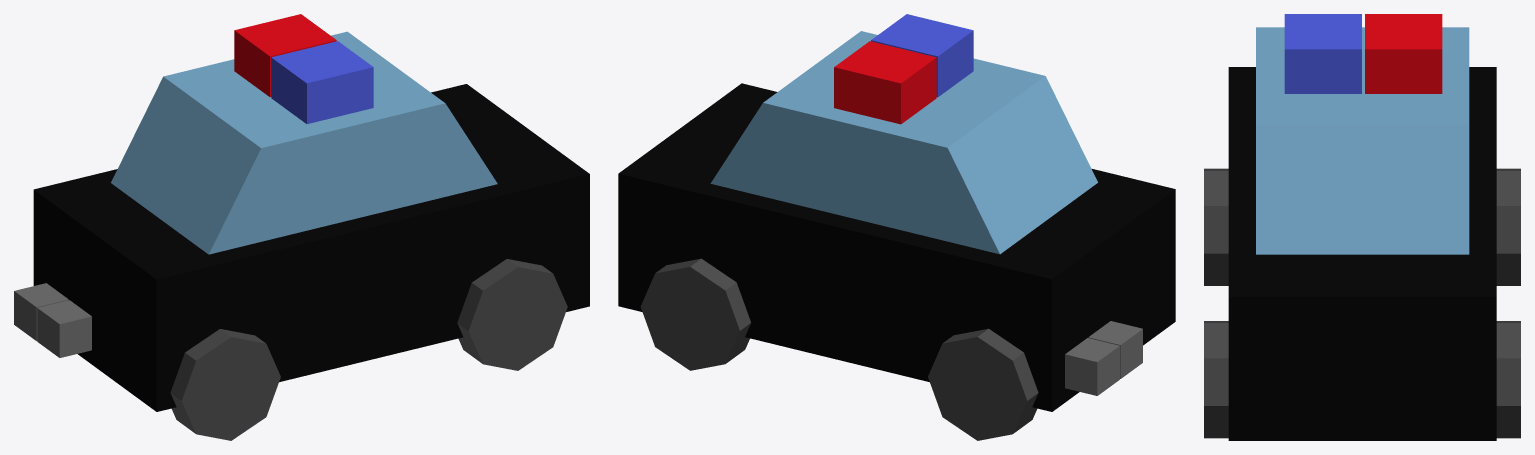
File: Patrulla_policia.fbx
The picture shows the model from 3 angles, left to right: view 1: azimuth 30°, elevation 25°; view 2: azimuth 150°, elevation 25°; view 3: azimuth 270°, elevation 25°; orthographic projection. The views are drawn at different scales.
Parts seen in each view (by area): view 1: Cube, Cube.001, Cylinder.001, Cylinder, Cube.002, Cube.003, Cube.004, Cube.005; view 2: Cube, Cube.001, Cylinder.002, Cylinder.003, Cube.003, Cube.002, Cube.005, Cube.004; view 3: Cube, Cube.001, Cube.002, Cube.003, Cylinder, Cylinder.001, Cylinder.002, Cylinder.003.
Boxes of the visible parts, x1,y1,x2,y2 form: Cube: (33, 84, 589, 411); Cube.001: (111, 31, 497, 254); Cylinder.001: (457, 259, 567, 370); Cylinder: (170, 329, 280, 440); Cube.002: (271, 41, 373, 123); Cube.003: (234, 14, 336, 96); Cube.004: (37, 300, 91, 357); Cube.005: (14, 283, 68, 340); Cube: (618, 83, 1175, 411); Cube.001: (710, 31, 1097, 254); Cylinder.002: (928, 328, 1038, 440); Cylinder.003: (640, 258, 750, 370); Cube.003: (834, 41, 936, 124); Cube.002: (871, 14, 973, 97); Cube.005: (1065, 338, 1119, 395); Cube.004: (1088, 321, 1142, 378); Cube: (1228, 67, 1496, 440); Cube.001: (1256, 27, 1469, 254); Cube.002: (1284, 14, 1361, 93); Cube.003: (1365, 14, 1442, 93); Cylinder: (1204, 168, 1228, 285); Cylinder.001: (1204, 321, 1228, 438); Cylinder.002: (1496, 168, 1520, 285); Cylinder.003: (1496, 321, 1520, 438).
Size of the model in its own units: 735 by 457 by 399.
